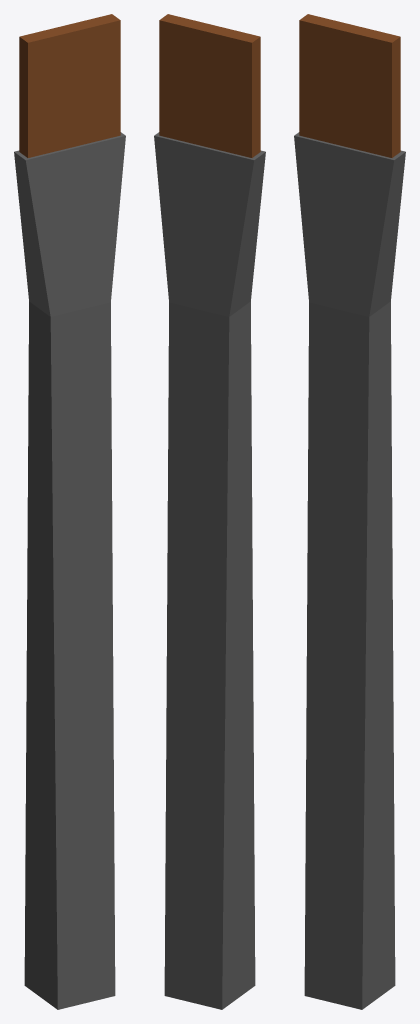
Rendered from FilbertBrush1.glb.
The picture shows the model from 3 angles, left to right: view 1: azimuth 30°, elevation 25°; view 2: azimuth 150°, elevation 25°; view 3: azimuth 330°, elevation 25°; orthographic projection.
Visible parts, largest first — view 1: FilbertBrush1; view 2: FilbertBrush1; view 3: FilbertBrush1.
Boxes of the visible parts, x1,y1,x2,y2 form: FilbertBrush1: (14, 14, 125, 1009); FilbertBrush1: (154, 14, 265, 1009); FilbertBrush1: (294, 14, 405, 1009).
Size of the model in its own units: 0.0337 by 0.3087 by 0.0193.
